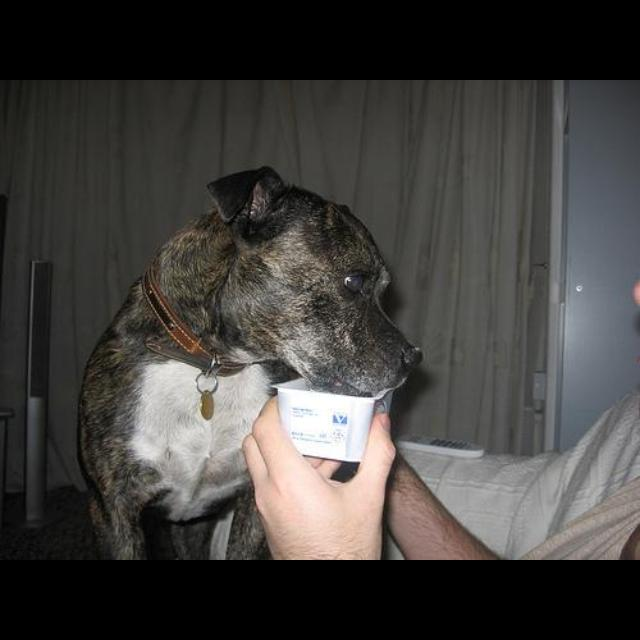staffford: (77, 165, 425, 560)
